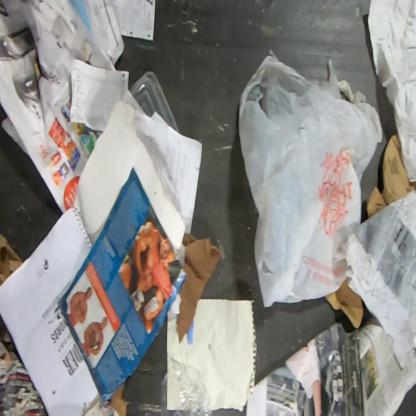cardboard: (177, 233, 222, 345), (366, 134, 411, 219), (0, 232, 24, 288)
rigid_plastic: (128, 72, 182, 134), (160, 364, 212, 415)
soft_plastic: (237, 53, 382, 307)
